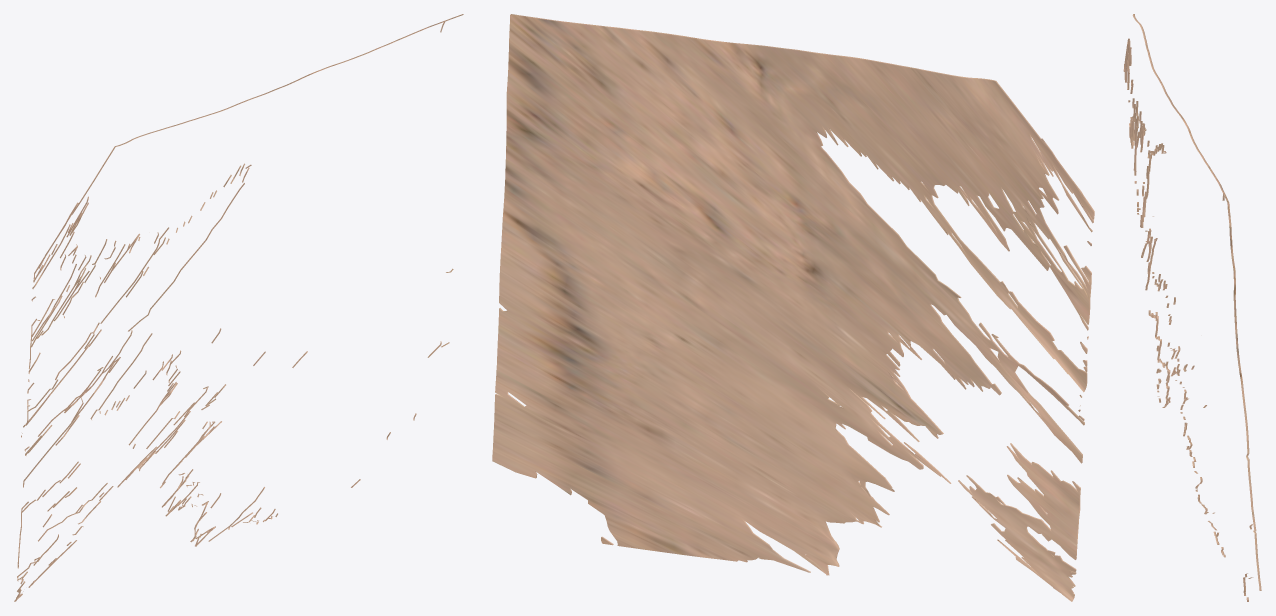
The picture shows the model from 3 angles, left to right: view 1: azimuth 30°, elevation 25°; view 2: azimuth 150°, elevation 25°; view 3: azimuth 270°, elevation 25°; orthographic projection. The views are drawn at different scales.
Size of the model in its own units: 26.62 by 24 by 6.77.
1 material, 1 textured.
